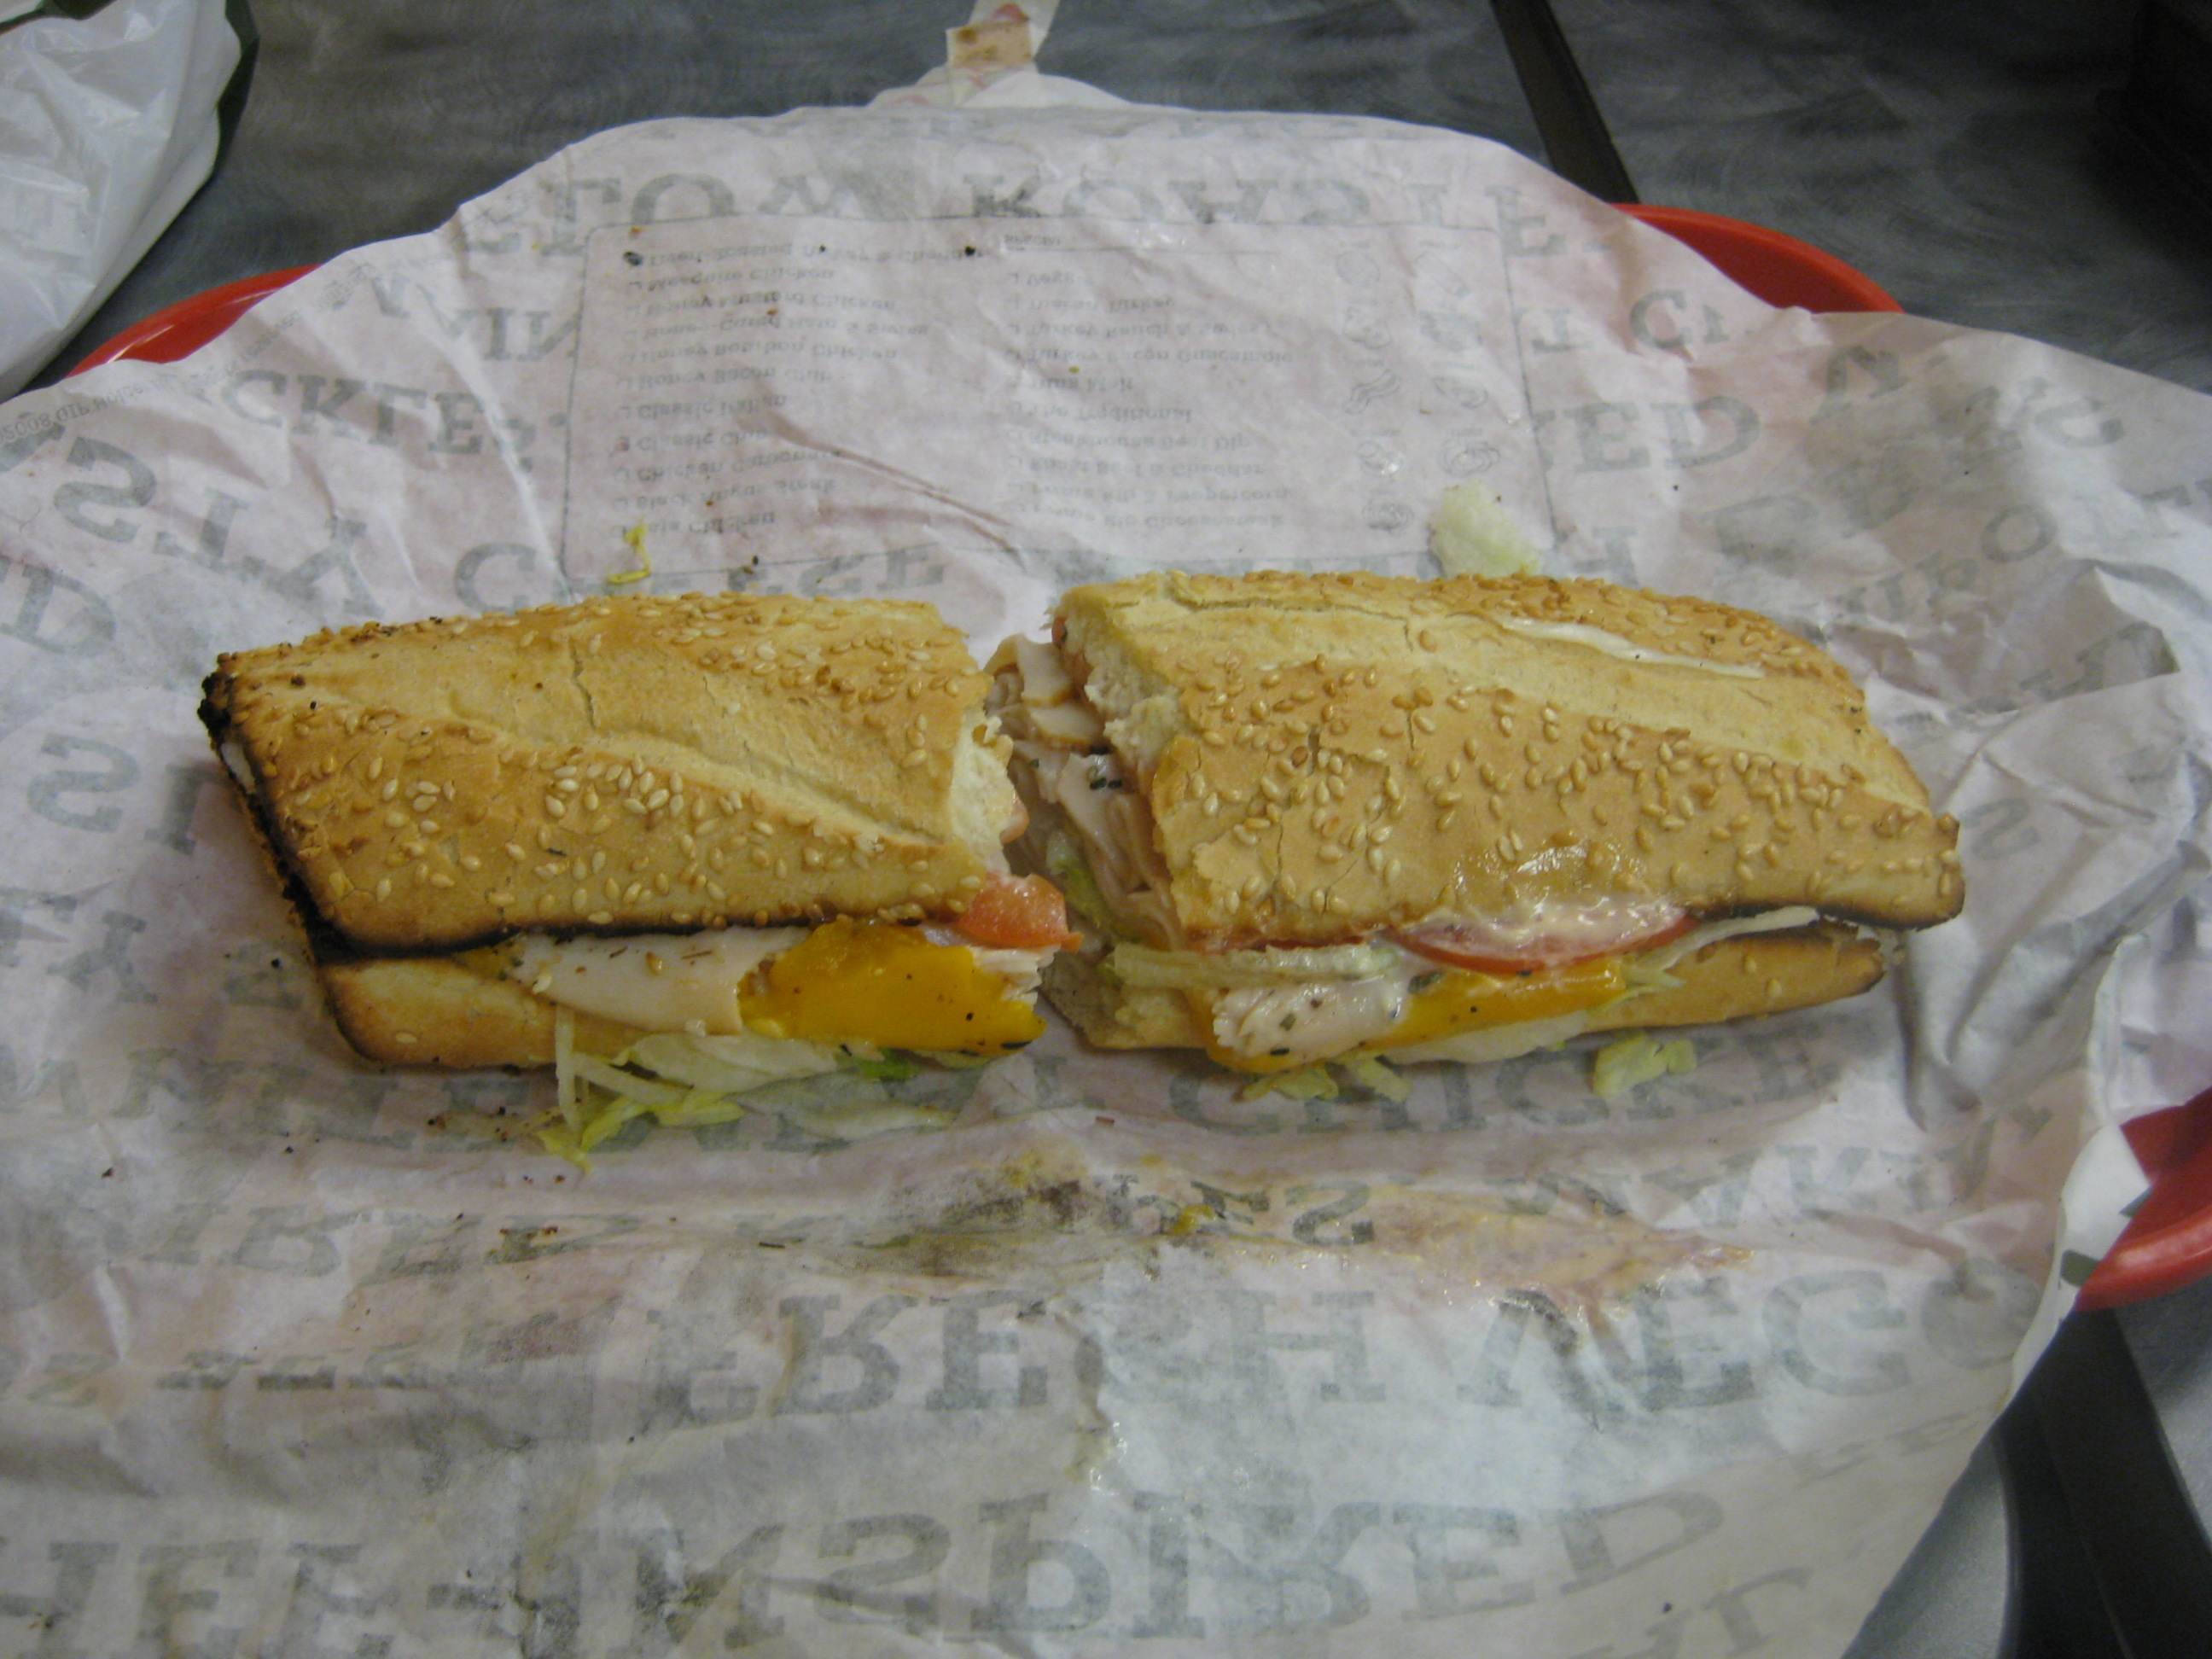sub: (110, 509, 2011, 1126)
